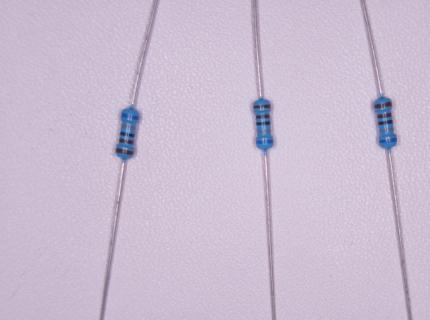Black band: (120, 131, 135, 138), (378, 120, 392, 125), (256, 121, 270, 125)
Blue band: (121, 113, 139, 120), (380, 138, 396, 143), (256, 140, 273, 144)
Brown band: (374, 102, 392, 109), (116, 149, 134, 155), (119, 138, 134, 145), (378, 113, 392, 118), (253, 105, 270, 109), (256, 115, 270, 119)
Grey band: (121, 124, 135, 130), (379, 127, 393, 132), (258, 129, 270, 133)
